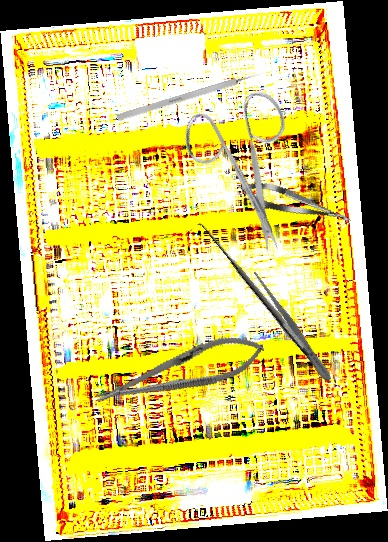Dressing Forceps: (244, 270, 336, 385)
Hook Surgical: (187, 217, 314, 366), (116, 69, 265, 122)
Iris Scissors: (152, 66, 349, 258)
Micro Scissor: (237, 175, 355, 233)
Needle Holder: (90, 325, 270, 419)
